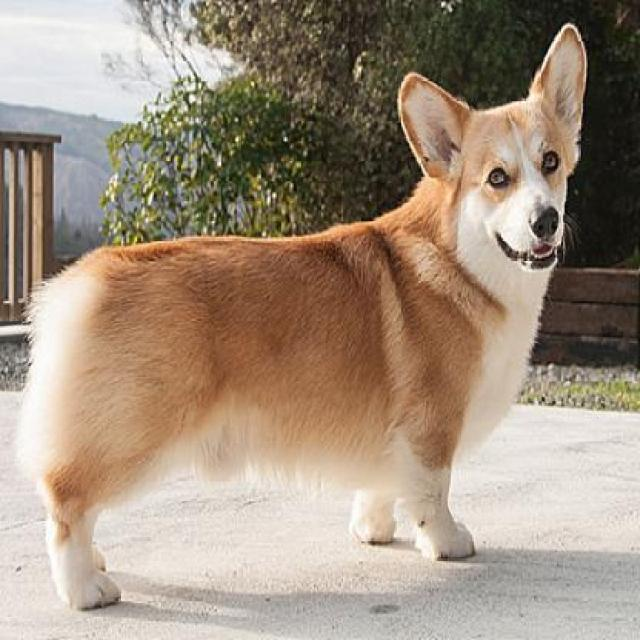Dog: (14, 20, 595, 614)
